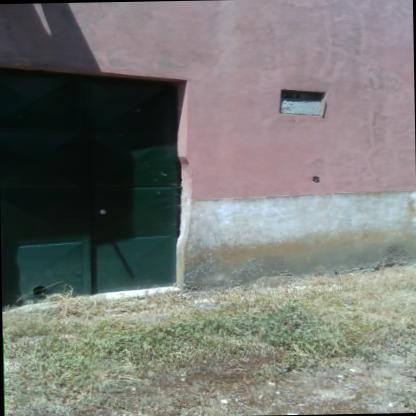closed: (0, 55, 208, 310)
